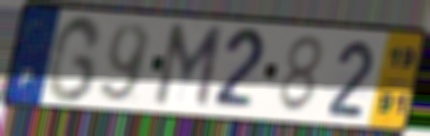2: (207, 25, 273, 113), (321, 34, 380, 121)
8: (274, 33, 326, 115)
9: (96, 20, 156, 103)
G: (43, 13, 105, 105)
M: (149, 22, 227, 113)
